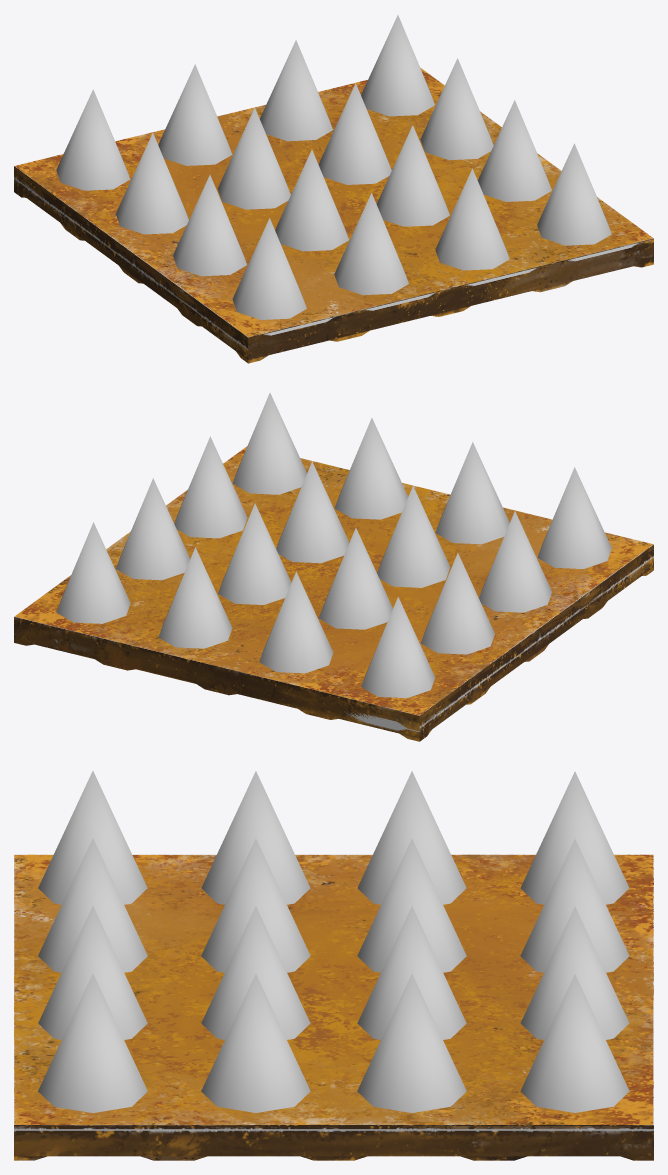
File: Spiketrap(centered).fbx
3 renders of one model, top to bottom at view 1: azimuth 30°, elevation 25°; view 2: azimuth 150°, elevation 25°; view 3: azimuth 270°, elevation 25°, orthographic. The views are drawn at different scales.
Parts seen in each view (by area): view 1: Floor_Circled__1_, Cone__3_, Cone__14_, Cone__6_, Cone__11_, Cone__15_, Cone__13_, Cone__1_, Cone__2_, Cone__12_, Cone, Cone__10_ (+5 smaller); view 2: Floor_Circled__1_, Cone__14_, Cone__3_, Cone__11_, Cone__2_, Cone__15_, Cone__13_, Cone__1_, Cone__8_, Cone__10_, Cone, Cone__6_ (+5 smaller); view 3: Floor_Circled__1_, Cone__3_, Cone__1_, Cone__2_, Cone, Cone__14_, Cone__13_, Cone__15_, Cone__6_, Cone__11_, Cone__5_, Cone__7_ (+5 smaller).
Boxes of the visible parts, <box> form: Floor_Circled__1_: <box>14,67,653,363</box>; Cone__3_: <box>537,143,611,245</box>; Cone__14_: <box>334,193,408,295</box>; Cone__6_: <box>435,168,509,270</box>; Cone__11_: <box>232,218,306,319</box>; Cone__15_: <box>217,107,290,209</box>; Cone__13_: <box>275,149,348,251</box>; Cone__1_: <box>420,58,493,160</box>; Cone__2_: <box>477,100,551,201</box>; Cone__12_: <box>173,174,246,276</box>; Cone: <box>361,15,434,116</box>; Cone__10_: <box>116,133,188,234</box>; Floor_Circled__1_: <box>14,446,653,741</box>; Cone__14_: <box>435,442,509,544</box>; Cone__3_: <box>232,393,306,494</box>; Cone__11_: <box>537,467,611,568</box>; Cone__2_: <box>174,436,247,538</box>; Cone__15_: <box>318,528,392,629</box>; Cone__13_: <box>377,486,450,587</box>; Cone__1_: <box>116,478,190,580</box>; Cone__8_: <box>259,571,333,673</box>; Cone__10_: <box>421,553,494,654</box>; Cone: <box>56,522,130,623</box>; Cone__6_: <box>334,417,408,519</box>; Floor_Circled__1_: <box>14,854,653,1160</box>; Cone__3_: <box>38,973,147,1112</box>; Cone__1_: <box>357,974,466,1112</box>; Cone__2_: <box>201,974,310,1112</box>; Cone: <box>520,974,629,1112</box>; Cone__14_: <box>38,838,147,972</box>; Cone__13_: <box>201,838,310,972</box>; Cone__15_: <box>357,838,466,972</box>; Cone__6_: <box>38,906,147,1039</box>; Cone__11_: <box>38,771,147,904</box>; Cone__5_: <box>201,906,310,1039</box>; Cone__7_: <box>357,906,466,1039</box>.
Bounding box in the file's own units: 484 × 128 × 484.
